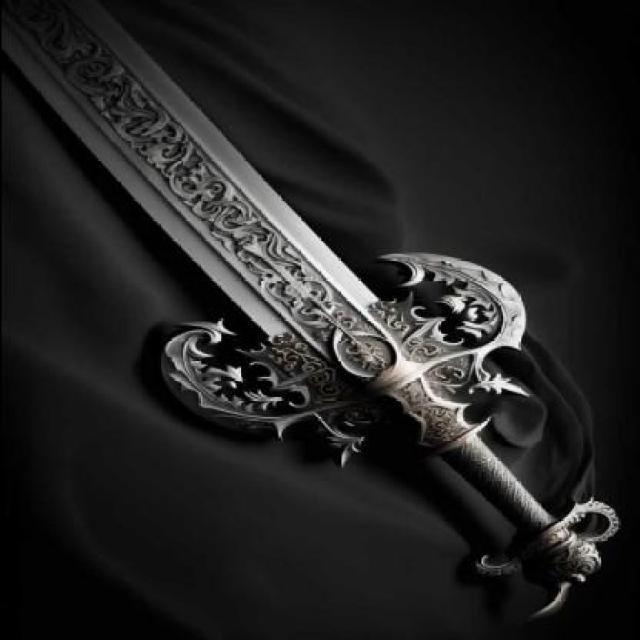weapon: (0, 0, 618, 621)
